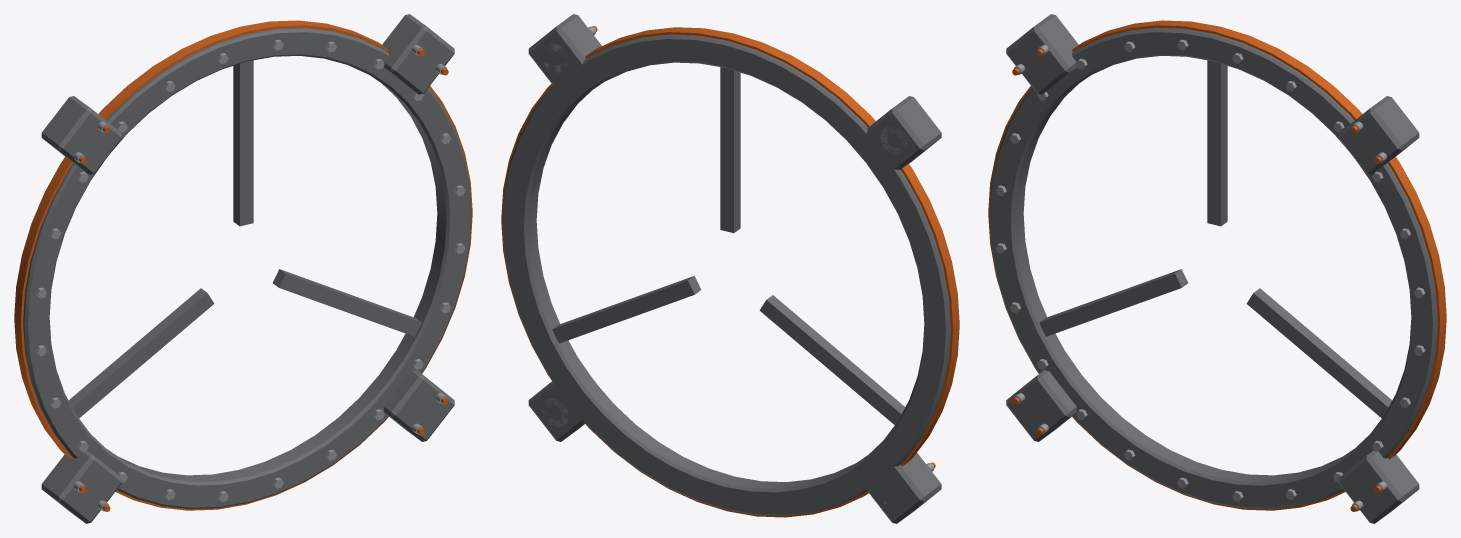
The model's file is u73l_flange.obj.
3 views of the same model, side by side, from view 1: azimuth 30°, elevation 25°; view 2: azimuth 150°, elevation 25°; view 3: azimuth 330°, elevation 25° (orthographic).
Visible parts, largest first — view 1: u73l_flange; view 2: u73l_flange; view 3: u73l_flange.
Boxes of the visible parts, x1,y1,x2,y2 form: u73l_flange: (14, 14, 472, 523); u73l_flange: (501, 14, 959, 523); u73l_flange: (988, 14, 1446, 523).
Bounding box in the file's own units: 3.94 × 3.94 × 0.415.
